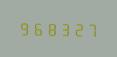eight: (44, 19, 56, 36)
nine: (17, 19, 29, 36)
seven: (83, 20, 95, 37)
six: (30, 19, 42, 36)
three: (57, 19, 69, 37)
two: (70, 20, 82, 37)
